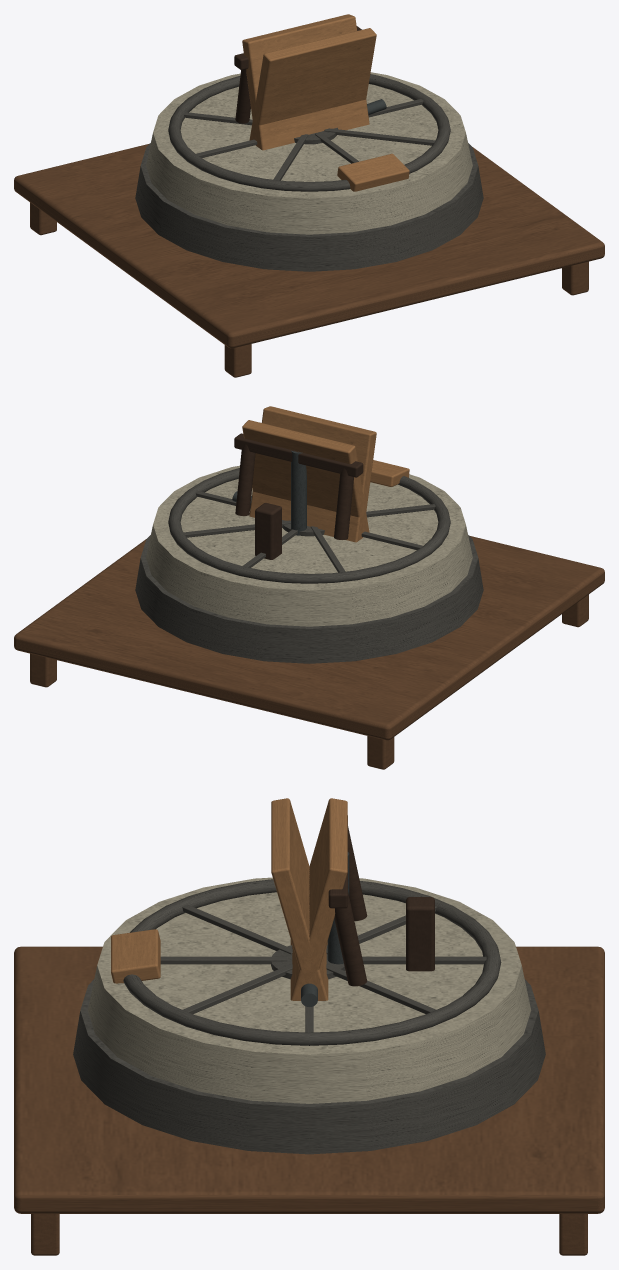
Rendered from millstone.glb.
The picture shows the model from 3 angles, top to bottom: view 1: azimuth 30°, elevation 25°; view 2: azimuth 150°, elevation 25°; view 3: azimuth 270°, elevation 25°; orthographic projection. The views are drawn at different scales.
Parts seen in each view (by area): view 1: millstone; view 2: millstone; view 3: millstone.
Boxes of the visible parts, x1,y1,x2,y2 form: millstone: [14, 14, 604, 377]; millstone: [14, 406, 604, 769]; millstone: [14, 798, 604, 1255].
Size of the model in its own units: 2.8 by 1.6 by 2.8.
Materials: 1 (1 with a texture image).
